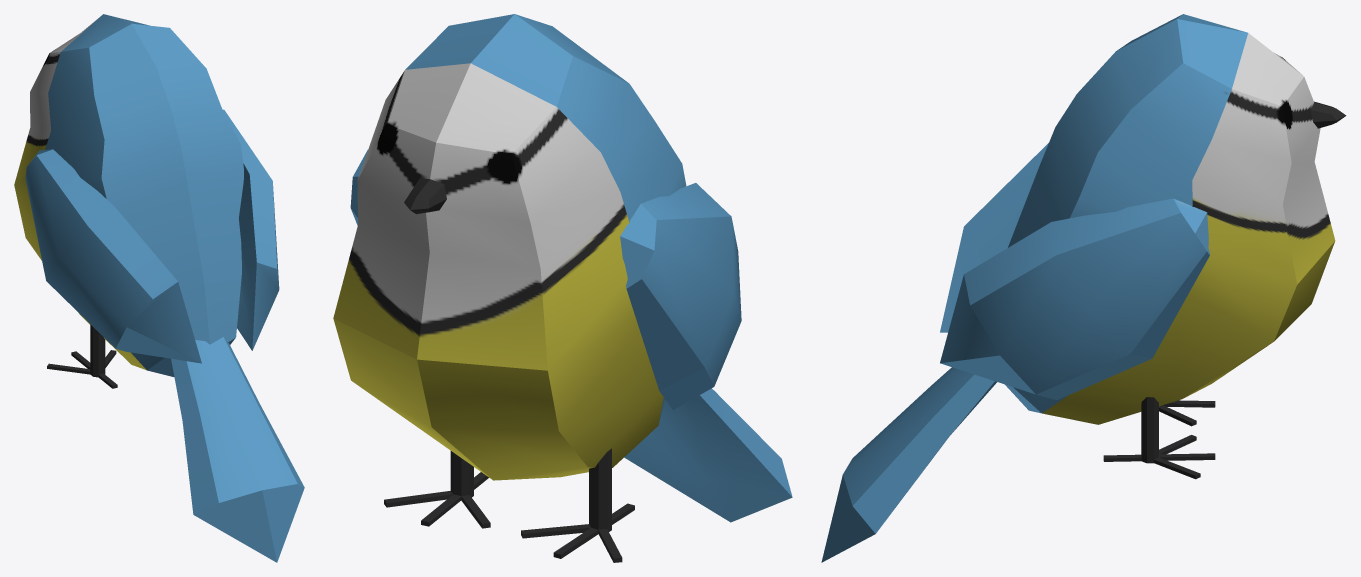
Rendered from Oiseau.glb.
3 renders of one model, left to right at view 1: azimuth 30°, elevation 25°; view 2: azimuth 150°, elevation 25°; view 3: azimuth 270°, elevation 25°, orthographic. The views are drawn at different scales.
Visible parts, largest first — view 1: Oiseau; view 2: Oiseau; view 3: Oiseau.
Boxes of the visible parts, x1,y1,x2,y2 form: Oiseau: (14, 14, 304, 562); Oiseau: (333, 14, 792, 562); Oiseau: (821, 14, 1346, 562).
Bounding box in the file's own units: 0.0882 × 0.1708 × 0.1498.
1 material, 1 textured.
